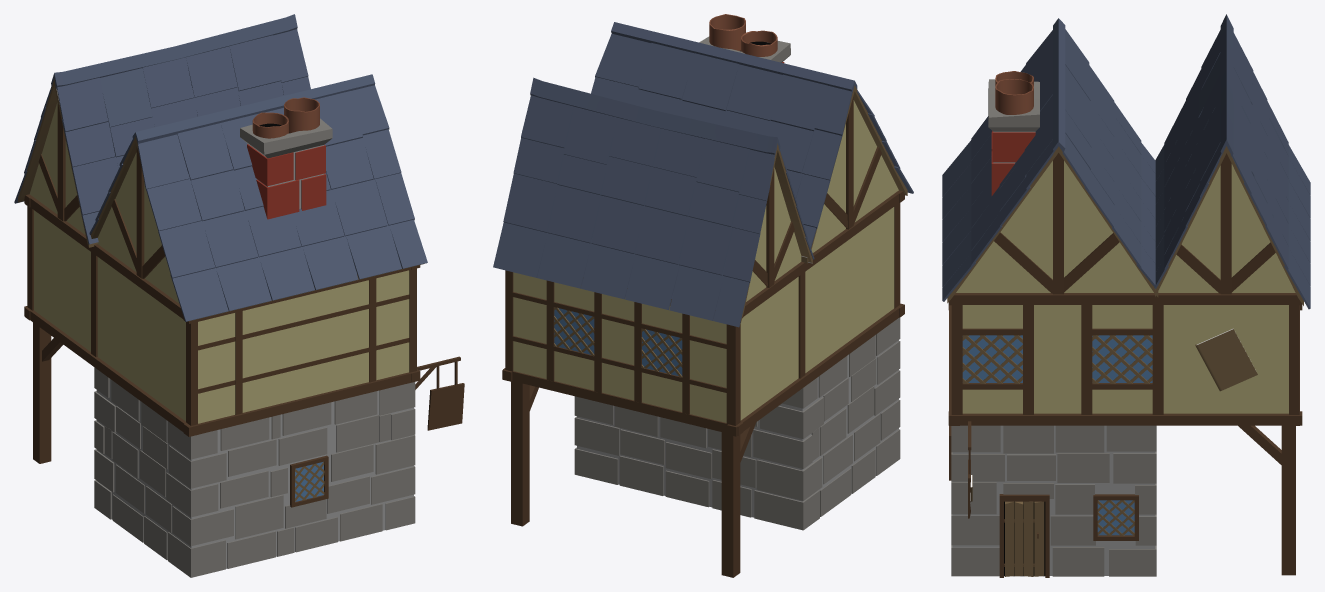
Rendered from cartoon book makers.fbx.
3 renders of one model, left to right at view 1: azimuth 30°, elevation 25°; view 2: azimuth 150°, elevation 25°; view 3: azimuth 270°, elevation 25°, orthographic. The views are drawn at different scales.
Visible parts, largest first — view 1: book makers; view 2: book makers; view 3: book makers.
Part boxes in pixels (x1,y1,x2,y2): book makers: (14, 14, 464, 577); book makers: (493, 14, 913, 577); book makers: (942, 14, 1310, 577).
Size of the model in its own units: 420 by 576 by 430.
